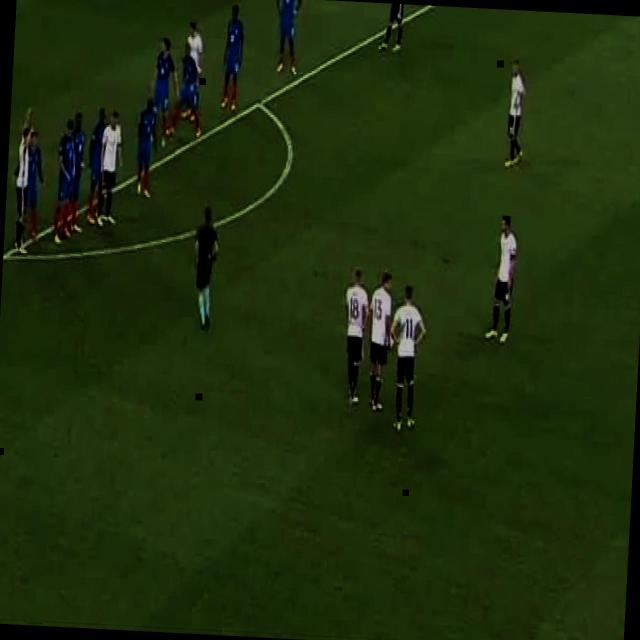player-white: (385, 283, 428, 431), (484, 215, 519, 345), (339, 267, 371, 407), (363, 268, 394, 412), (11, 106, 38, 255), (190, 205, 220, 332), (167, 42, 205, 139), (96, 109, 126, 229), (150, 38, 182, 138), (85, 106, 111, 226), (52, 118, 77, 242), (220, 3, 246, 113), (66, 114, 88, 236), (503, 59, 527, 170), (22, 130, 46, 241), (134, 98, 159, 200), (182, 21, 204, 124), (272, 0, 300, 74), (376, 3, 408, 52)
